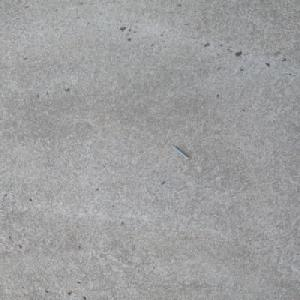Screw: (170, 145, 191, 159)
